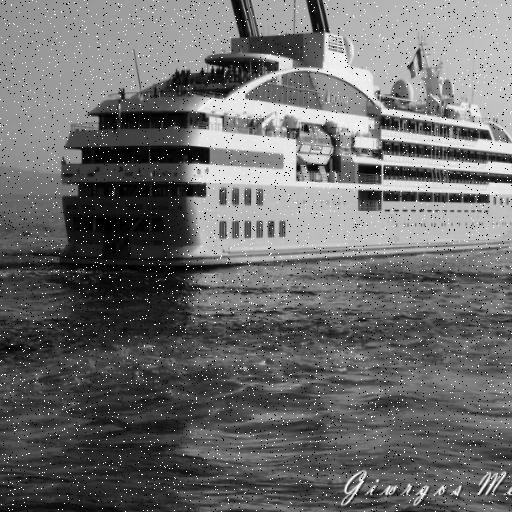cruises: (58, 1, 512, 276)
